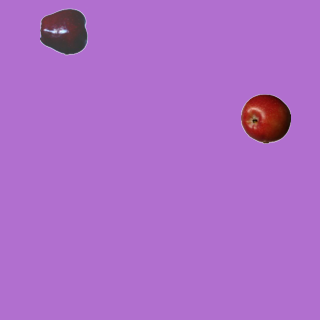Apple Braeburn: (240, 93, 290, 143)
Apple Red Delicious: (39, 6, 89, 56)
